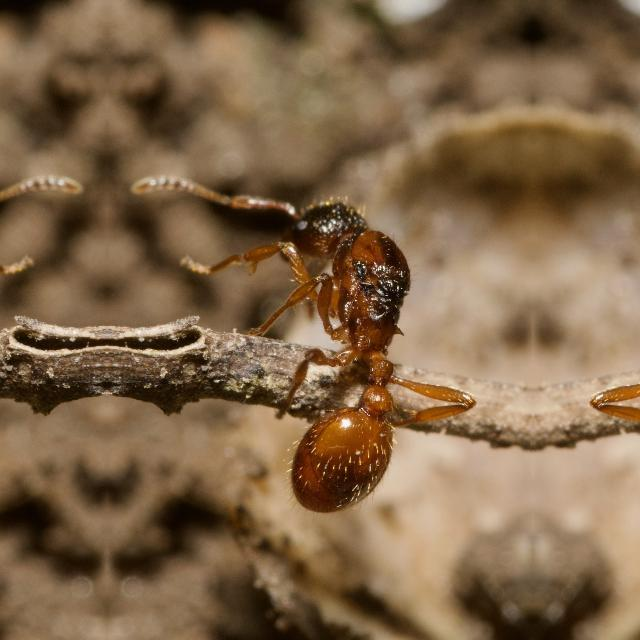Myrmica: (258, 158, 442, 524)
